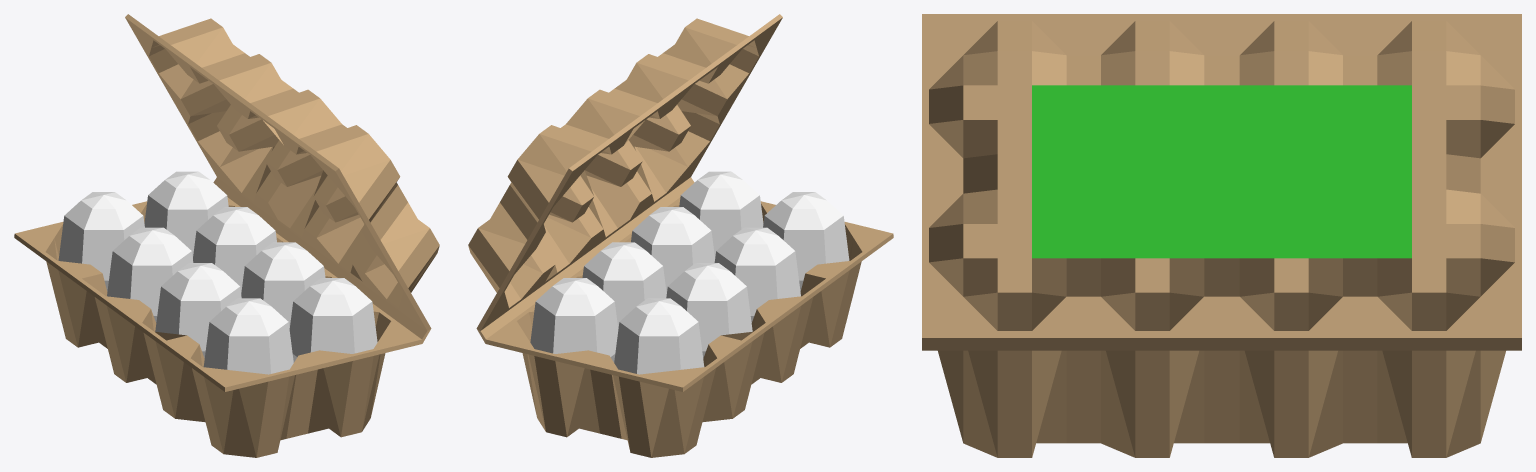
The model's file is Eggs.fbx.
The picture shows the model from 3 angles, left to right: view 1: azimuth 30°, elevation 25°; view 2: azimuth 150°, elevation 25°; view 3: azimuth 270°, elevation 25°; orthographic projection. The views are drawn at different scales.
Visible parts, largest first — view 1: Cardboard, Eggs; view 2: Cardboard, Eggs; view 3: Cardboard.
Part boxes in pixels (x1,y1,x2,y2): Cardboard: [14, 14, 439, 457]; Eggs: [58, 171, 377, 374]; Cardboard: [468, 14, 893, 457]; Eggs: [530, 171, 849, 374]; Cardboard: [922, 14, 1521, 457].
Size of the model in its own units: 36.93 by 42.05 by 56.4.
